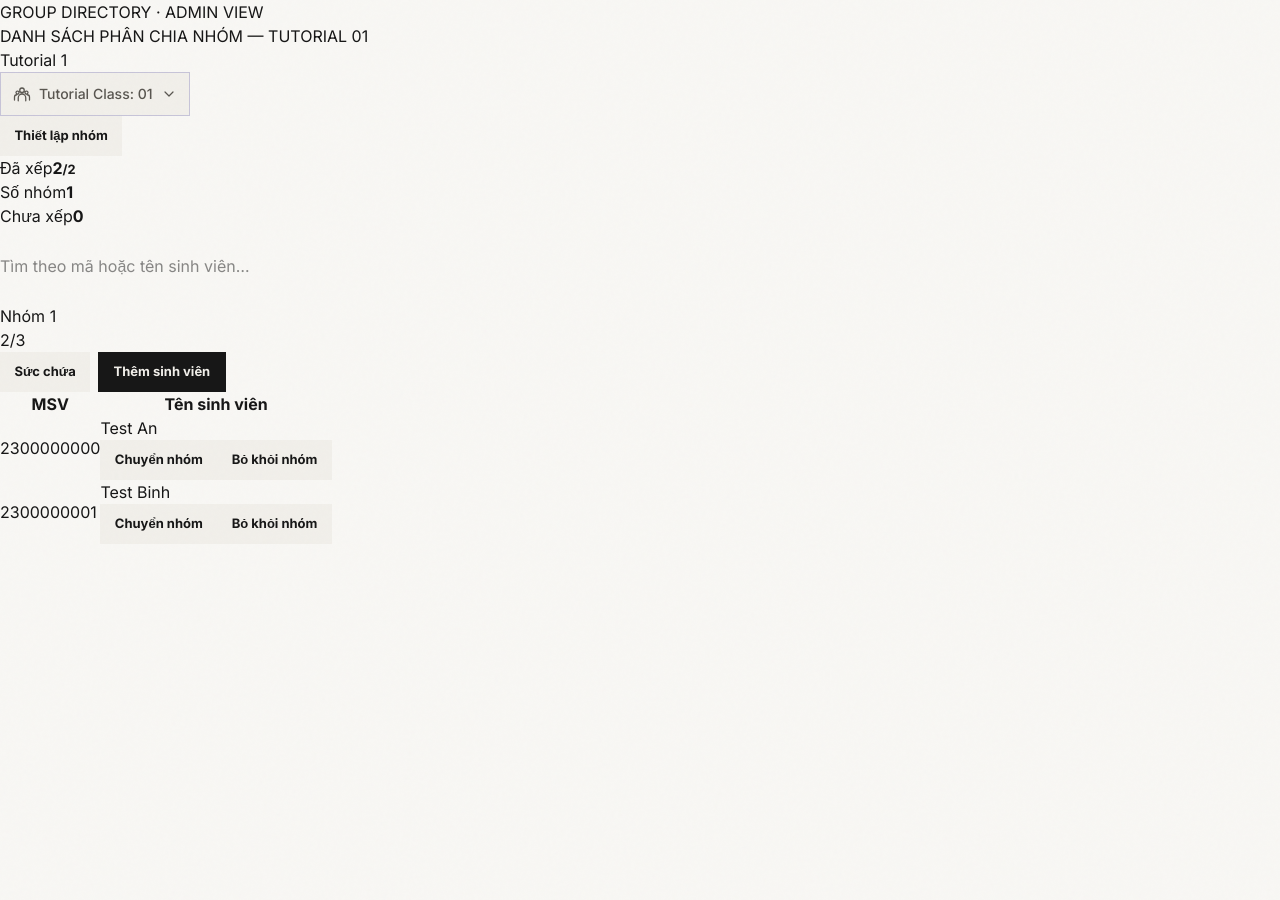
Test: Group list review regressions › opens settings with the current saved values
Click the button "Thiết lập nhóm": coordinates (61, 136) [0, 116, 122, 156]
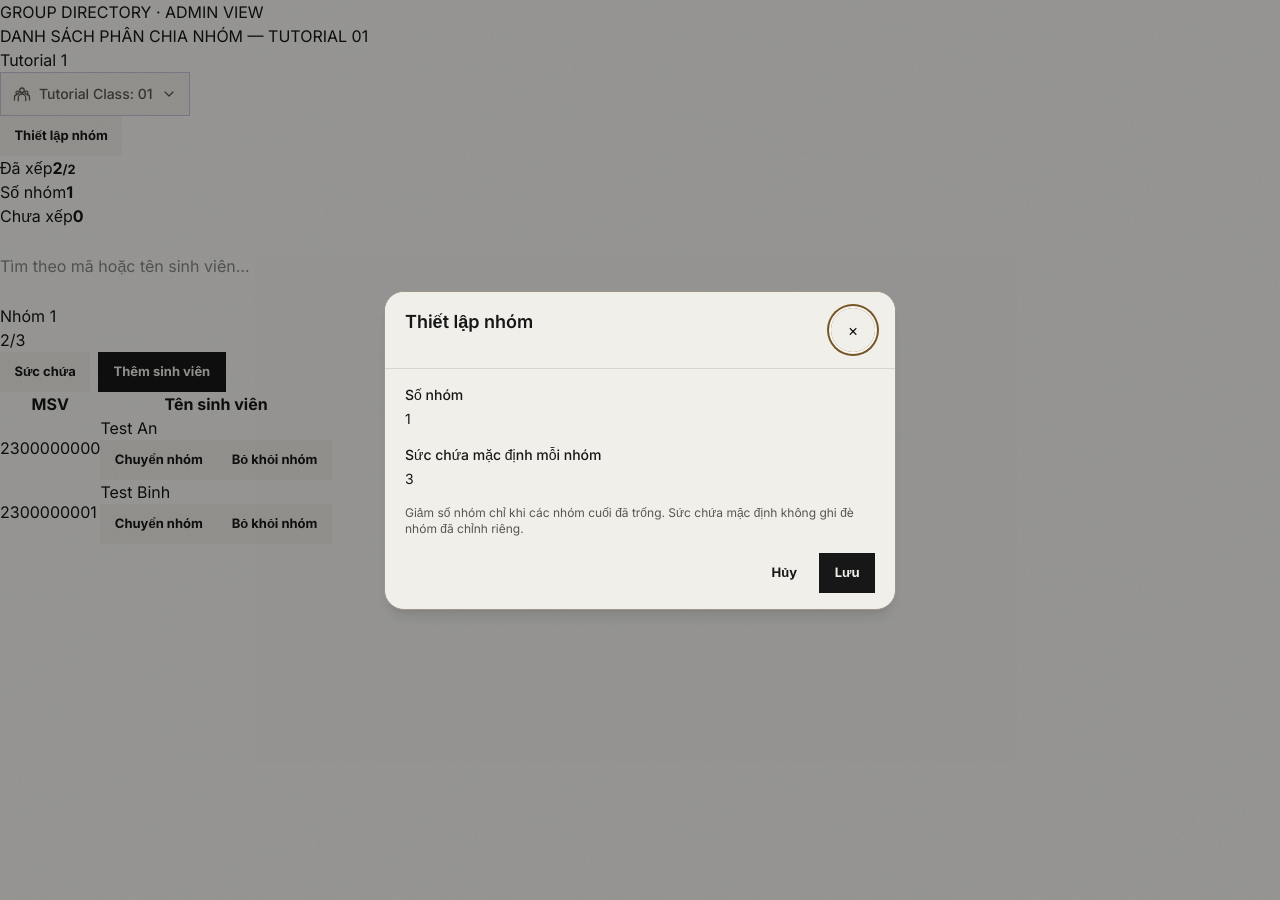
Now the number field labelled "Số nhóm" holds "1", box [405, 408, 875, 428]
Now the number field labelled "Sức chứa mặc định mỗi nhóm" holds "3", box [405, 468, 875, 488]
